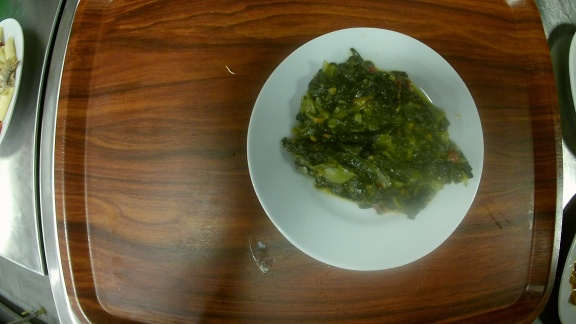ispanak: (245, 27, 487, 273)
